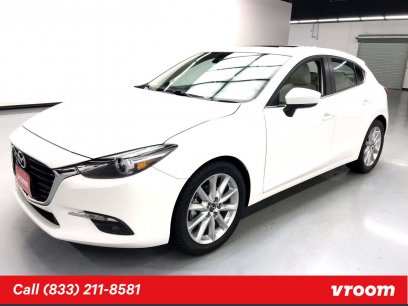Mazda3 Hatchback: (8, 45, 388, 256)
